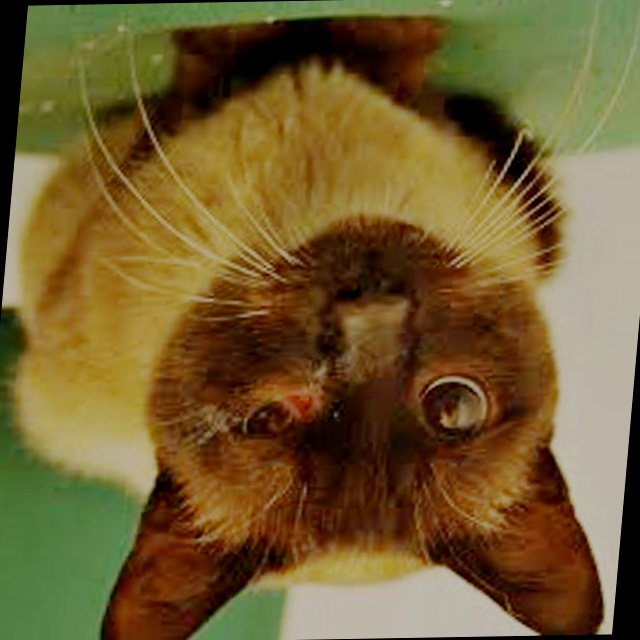eye_infection: (245, 389, 309, 437)
